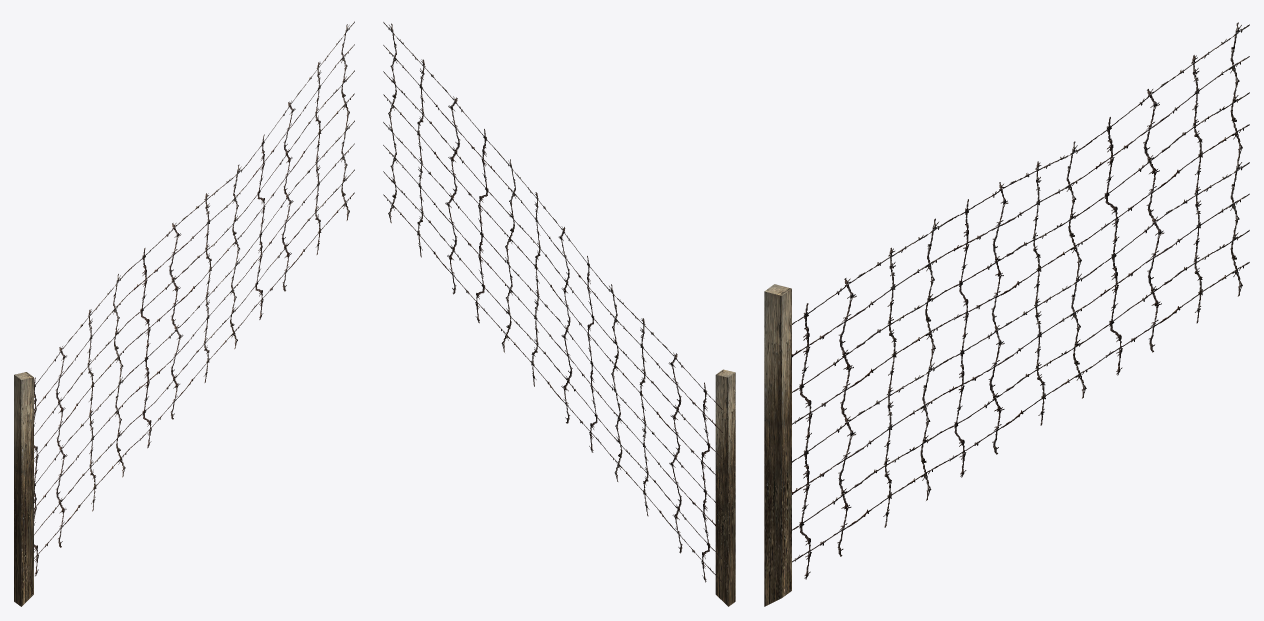
Rendered from BFence3.glb.
The picture shows the model from 3 angles, left to right: view 1: azimuth 30°, elevation 25°; view 2: azimuth 150°, elevation 25°; view 3: azimuth 330°, elevation 25°; orthographic projection. The views are drawn at different scales.
Parts seen in each view (by area): view 1: _BFence3; view 2: _BFence3; view 3: _BFence3.
Boxes of the visible parts, bbox=[...] form: _BFence3: bbox=[14, 21, 354, 606]; _BFence3: bbox=[383, 22, 735, 606]; _BFence3: bbox=[764, 22, 1249, 606].
Size of the model in its own units: 4.06 by 5.73 by 0.2752.
2 materials, 2 textured.
